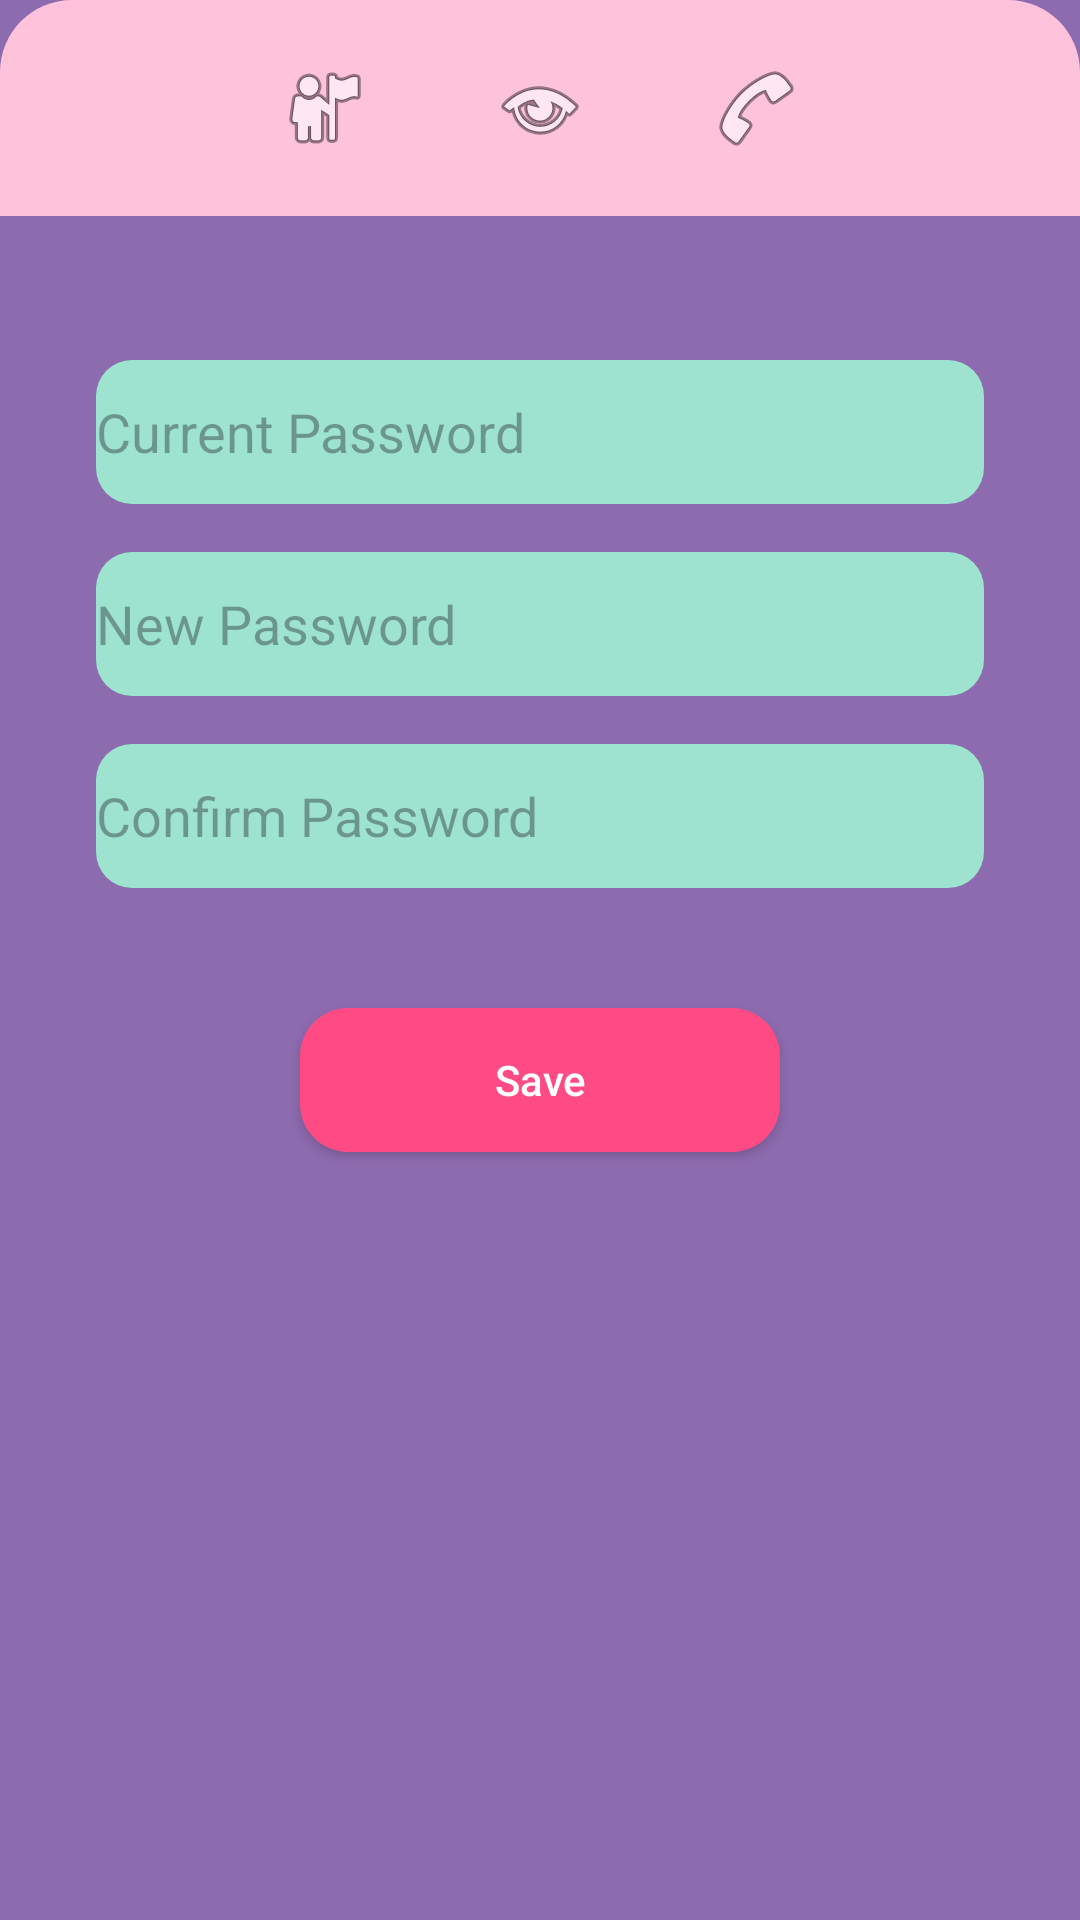

Screen size 1080x1920. Icon name, then its box in pixels as {"x1": x1, "y1": y1, "x2": x2, "y2": y2}:
Contacts: {"x1": 719, "y1": 71, "x2": 794, "y2": 146}
Profile: {"x1": 289, "y1": 72, "x2": 361, "y2": 144}
